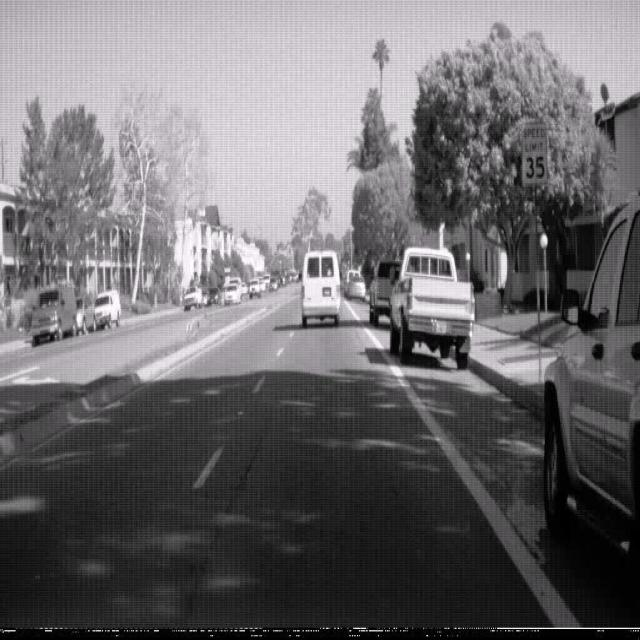speedLimit35: (520, 120, 548, 185)
